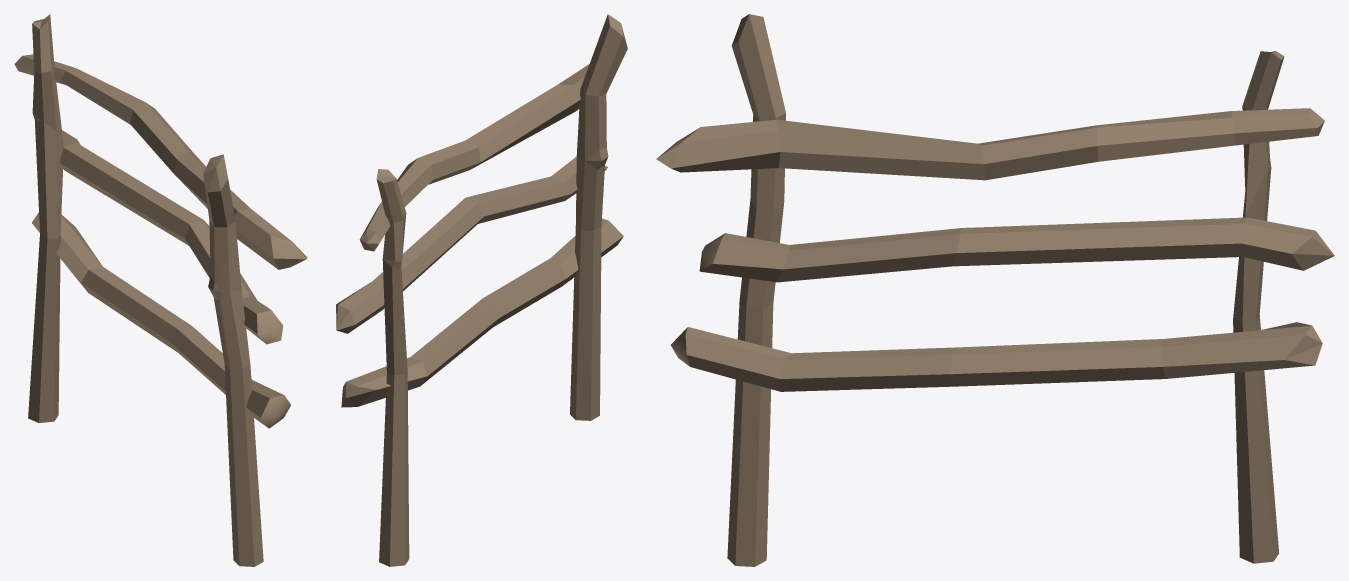
Rendered from SM_Prop_Makeshift_Fence_01.fbx.
3 renders of one model, left to right at view 1: azimuth 30°, elevation 25°; view 2: azimuth 150°, elevation 25°; view 3: azimuth 270°, elevation 25°, orthographic. The views are drawn at different scales.
Visible parts, largest first — view 1: SM_Prop_Makeshift_Fence_01; view 2: SM_Prop_Makeshift_Fence_01; view 3: SM_Prop_Makeshift_Fence_01.
Boxes of the visible parts, x1,y1,x2,y2 form: SM_Prop_Makeshift_Fence_01: (14, 14, 307, 566); SM_Prop_Makeshift_Fence_01: (336, 14, 627, 566); SM_Prop_Makeshift_Fence_01: (656, 14, 1334, 566).
Bounding box in the file's own units: 52.5 × 234 × 272.
